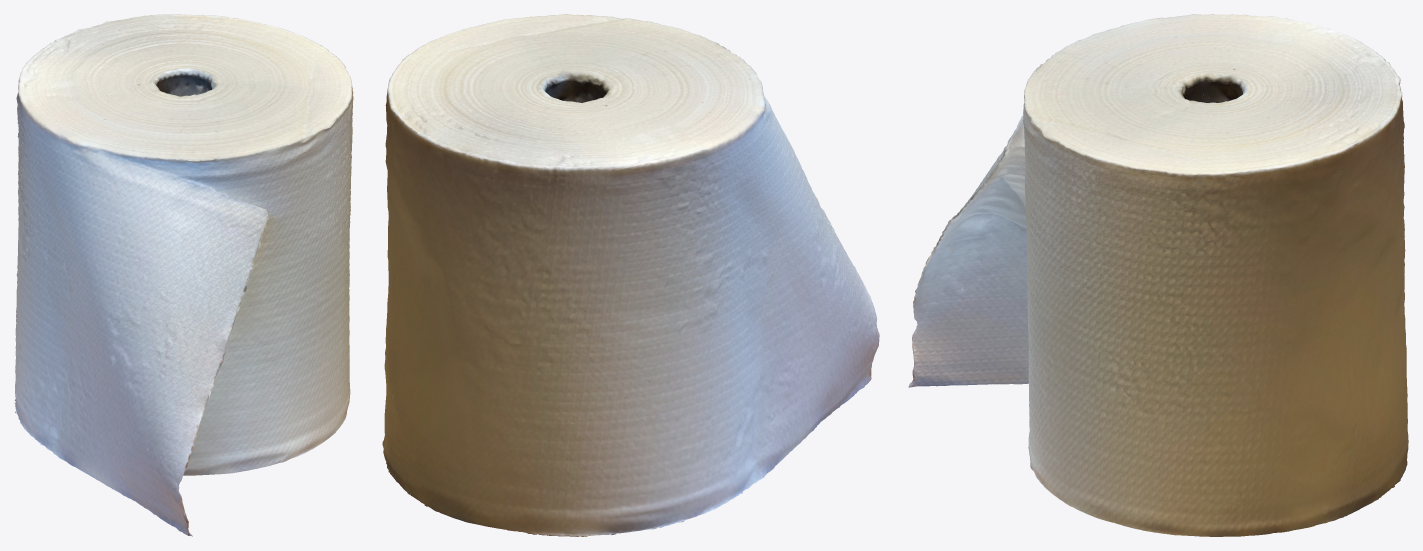
Rendered from roll_of_paper_towel.glb.
The picture shows the model from 3 angles, left to right: view 1: azimuth 30°, elevation 25°; view 2: azimuth 150°, elevation 25°; view 3: azimuth 270°, elevation 25°; orthographic projection. The views are drawn at different scales.
Parts seen in each view (by area): view 1: Object_4; view 2: Object_4; view 3: Object_4.
Part boxes in pixels (x1=…): Object_4: x1=14, y1=14, x2=353, y2=536; Object_4: x1=382, y1=14, x2=879, y2=536; Object_4: x1=908, y1=14, x2=1408, y2=536.
Bounding box in the file's own units: 0.2907 × 0.31 × 0.3793.
1 material, 1 textured.
